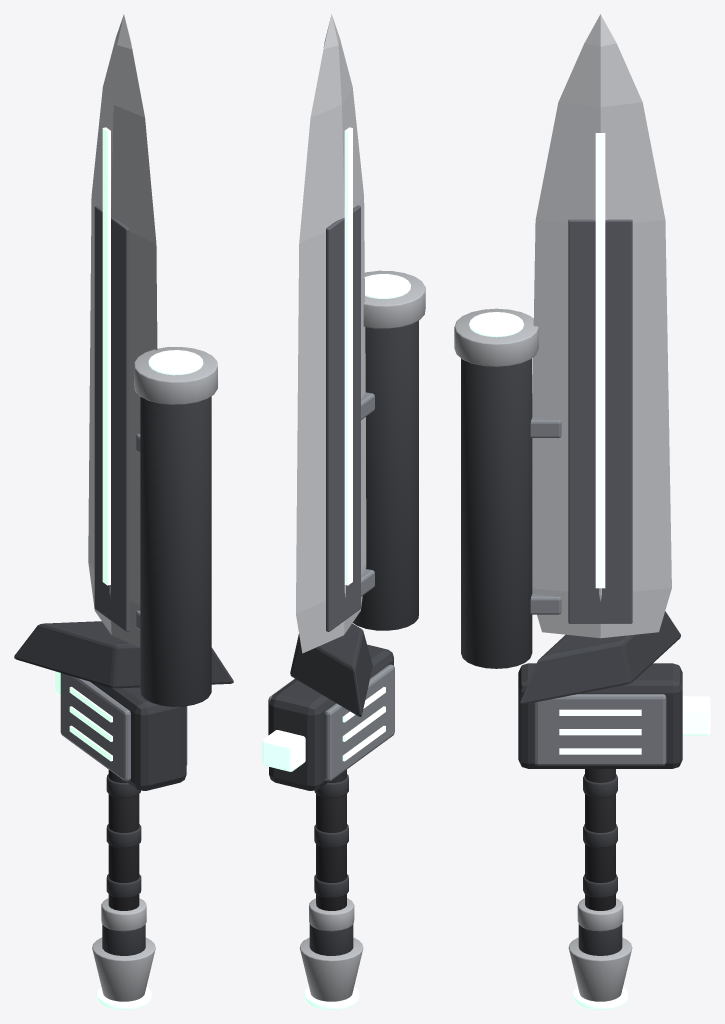
File: lancer.glb
3 views of the same model, side by side, from view 1: azimuth 30°, elevation 25°; view 2: azimuth 150°, elevation 25°; view 3: azimuth 270°, elevation 25° (orthographic).
Parts seen in each view (by area): view 1: LauncherTube, Blade, Panel-1, Collar, Housing, Cheek-1, Spine_L, LauncherMuzzle, Grip, NozzleBell0, LauncherGlow, NozzleBody0 (+4 smaller); view 2: Blade, LauncherTube, Panel-1, Housing, Collar, Spine_L, Cheek-1, Grip, NozzleBell0, LauncherMuzzle, CoreCell, NozzleBody0 (+6 smaller); view 3: Blade, Panel1, LauncherTube, Cheek1, Collar, Spine_R, Housing, LauncherMuzzle, Grip, NozzleBell0, CoreCell, NozzleBody0 (+5 smaller).
Part boxes in pixels (x1=…): LauncherTube: x1=140, y1=396, x2=211, y2=706; Blade: x1=88, y1=14, x2=157, y2=647; Panel-1: x1=94, y1=205, x2=129, y2=631; Collar: x1=14, y1=621, x2=233, y2=688; Housing: x1=91, y1=682, x2=186, y2=790; Cheek-1: x1=60, y1=673, x2=130, y2=781; Spine_L: x1=102, y1=127, x2=110, y2=585; LauncherMuzzle: x1=134, y1=347, x2=217, y2=404; Grip: x1=108, y1=770, x2=139, y2=910; NozzleBell0: x1=92, y1=937, x2=155, y2=1001; LauncherGlow: x1=148, y1=350, x2=203, y2=375; NozzleBody0: x1=102, y1=924, x2=145, y2=955; Blade: x1=296, y1=14, x2=366, y2=653; LauncherTube: x1=352, y1=320, x2=418, y2=630; Panel-1: x1=326, y1=205, x2=360, y2=631; Housing: x1=269, y1=644, x2=393, y2=790; Collar: x1=290, y1=623, x2=372, y2=716; Spine_L: x1=344, y1=127, x2=352, y2=585; Cheek-1: x1=324, y1=664, x2=394, y2=781; Grip: x1=316, y1=769, x2=346, y2=910; NozzleBell0: x1=300, y1=937, x2=363, y2=1001; LauncherMuzzle: x1=363, y1=270, x2=425, y2=328; CoreCell: x1=262, y1=730, x2=305, y2=771; NozzleBody0: x1=309, y1=924, x2=353, y2=955; Blade: x1=532, y1=14, x2=671, y2=638; Panel1: x1=568, y1=219, x2=632, y2=623; LauncherTube: x1=461, y1=358, x2=532, y2=668; Cheek1: x1=534, y1=694, x2=666, y2=765; Collar: x1=520, y1=611, x2=680, y2=704; Spine_R: x1=595, y1=133, x2=605, y2=588; Housing: x1=518, y1=663, x2=682, y2=768; LauncherMuzzle: x1=454, y1=308, x2=538, y2=366; Grip: x1=585, y1=769, x2=615, y2=910; NozzleBell0: x1=568, y1=937, x2=632, y2=1001; CoreCell: x1=682, y1=696, x2=710, y2=735; NozzleBody0: x1=578, y1=924, x2=622, y2=955.
Bounding box in the file's own units: 0.4961 × 3.35 × 0.789.
